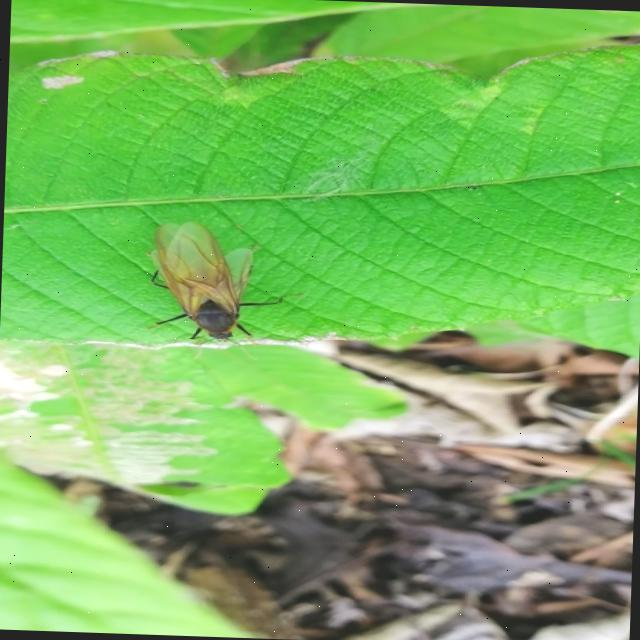Alive-Male-Alate: (142, 220, 306, 362)
